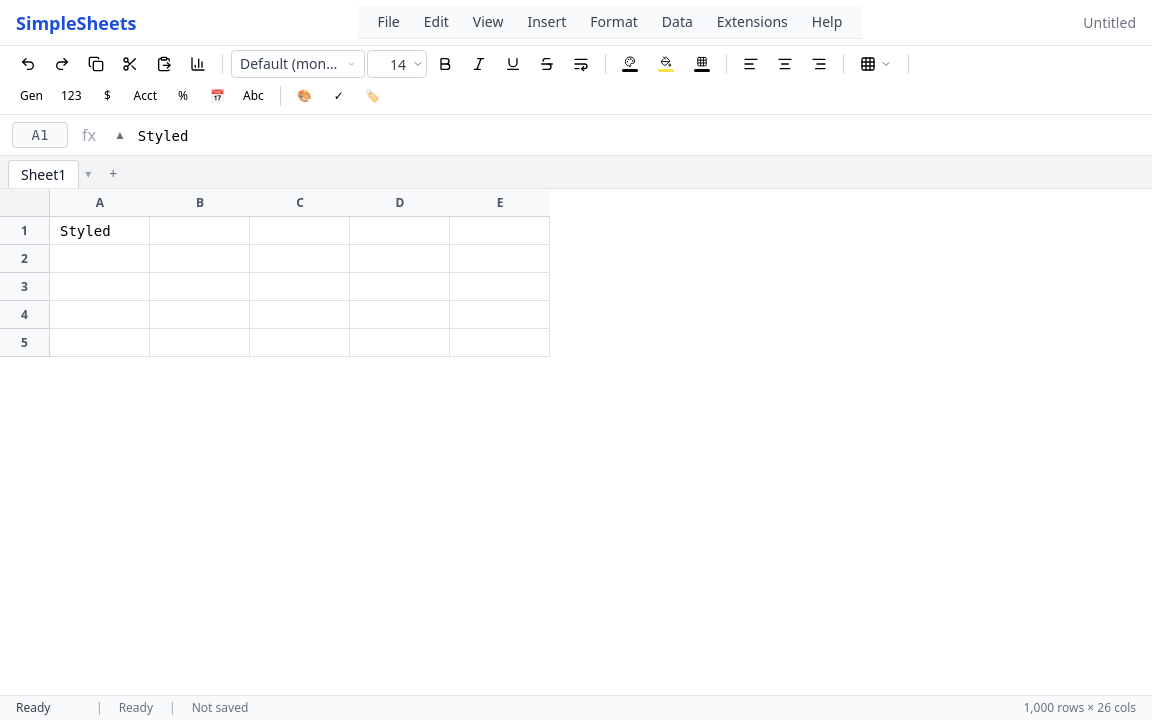
Test: App — Paste with Styles (Integration) › cut and paste preserves style
This screenshot has width=1152, height=720.
Press the mouse on the element with class "grid-cell" showing "Styled": (100, 231) 50,217 -> 150,245
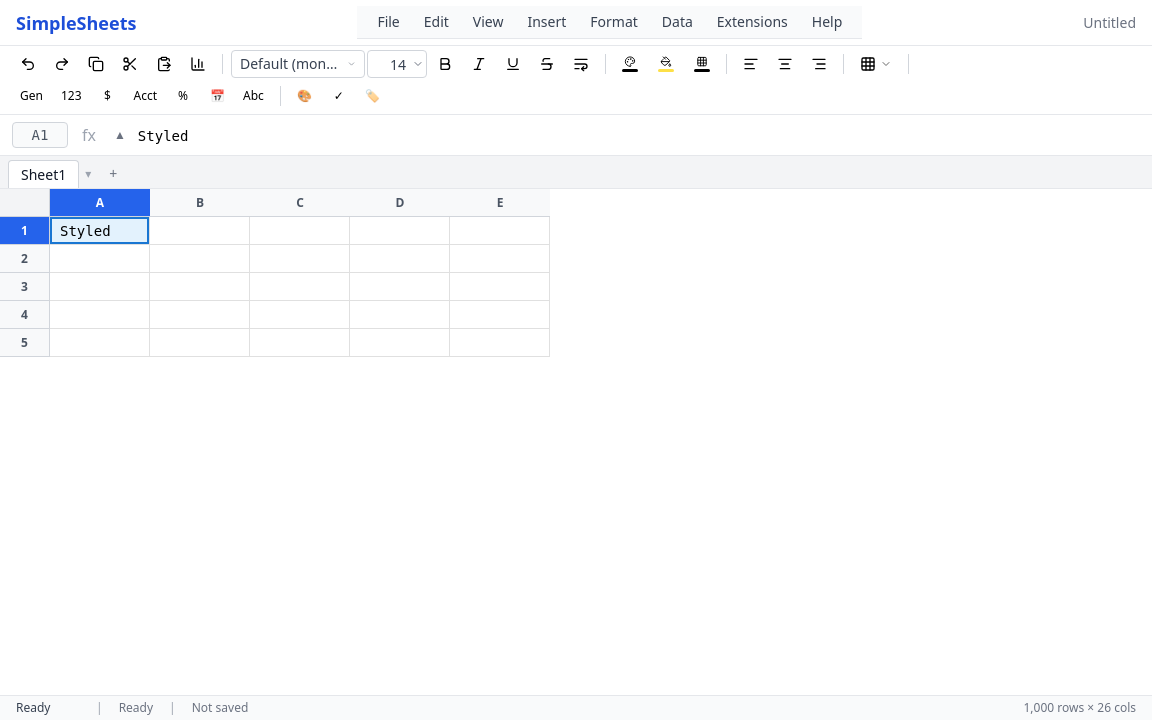
Replace the text in the field with placeholder "Enter a value or formula (e.g., =SUM(A1:A10))" with "Move": (639, 136) 138,126 -> 1140,146
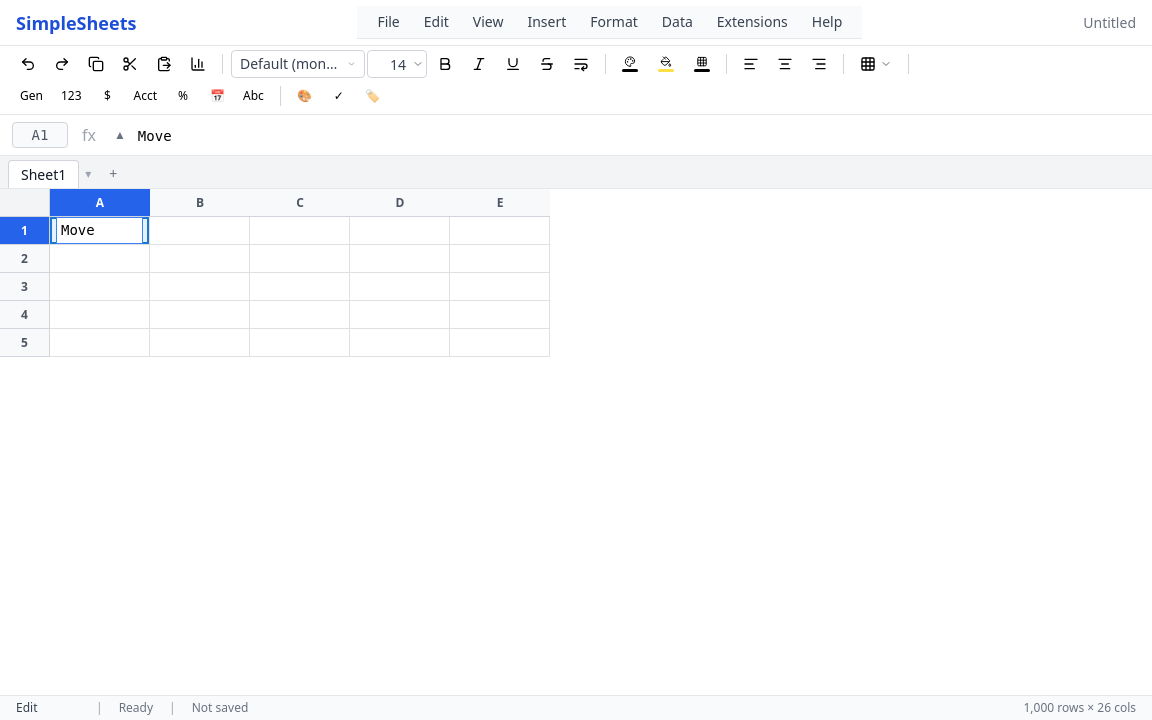
Press Enter in the 1st field with placeholder "Enter a value or formula (e.g., =SUM(A1:A10))", box 138,126 -> 1140,146
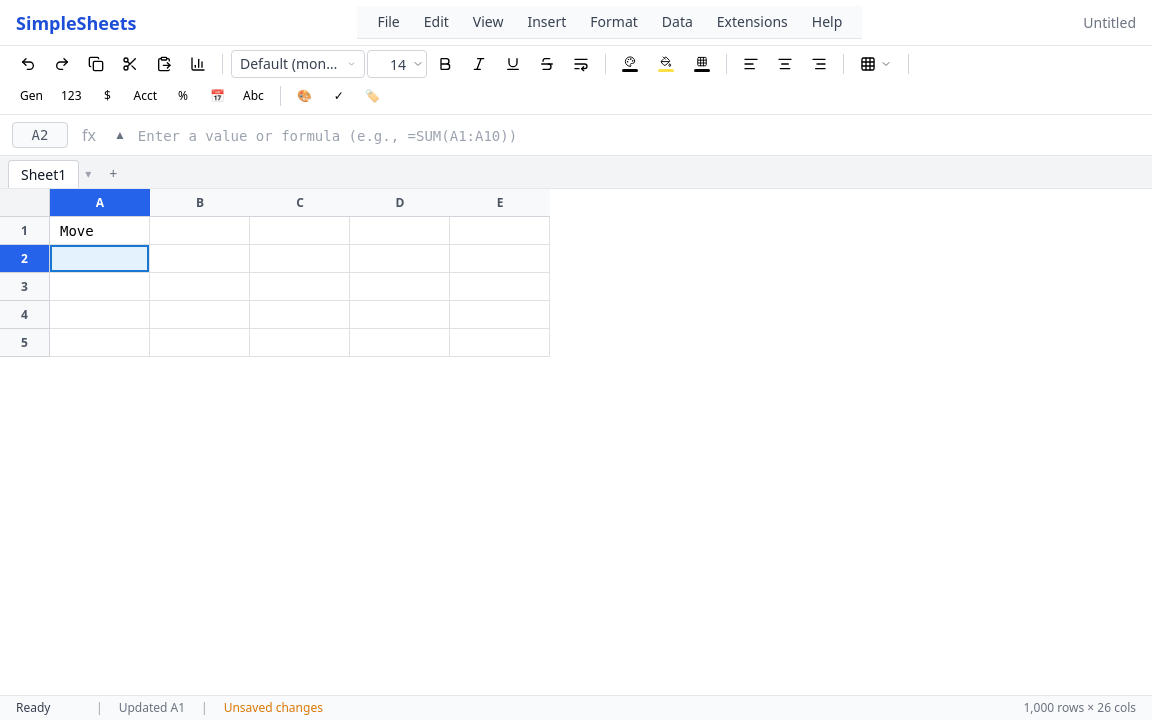
Click the button "Format": (614, 22) 578,8 -> 650,36
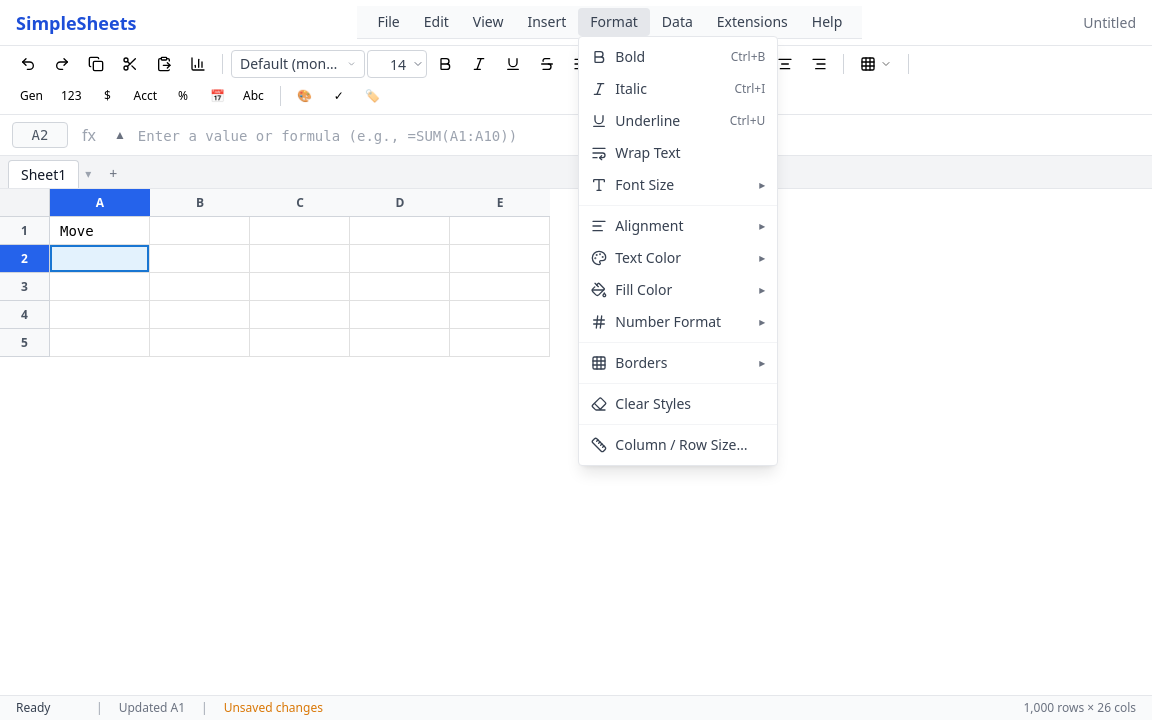
Click the text "Bold": (630, 56) 615,47 -> 645,66
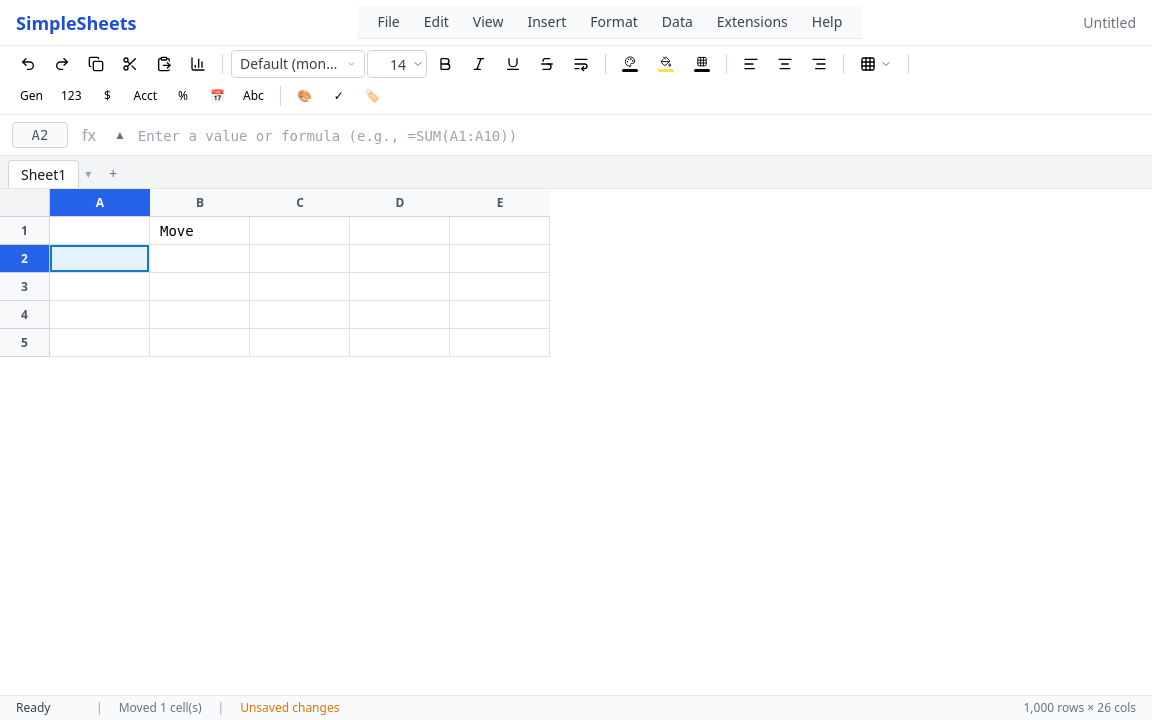
expect the text "Moved 1 cell(s)" is shown: met, box 119,700 -> 202,716
